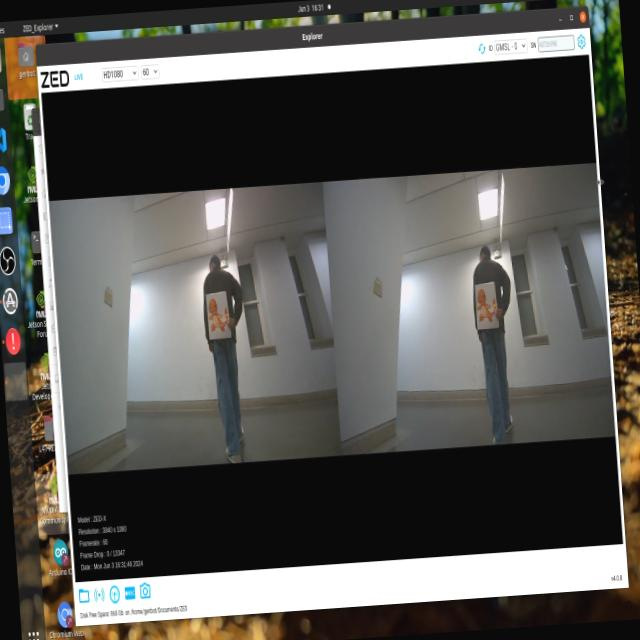red: (468, 279, 498, 325), (202, 291, 232, 335)
